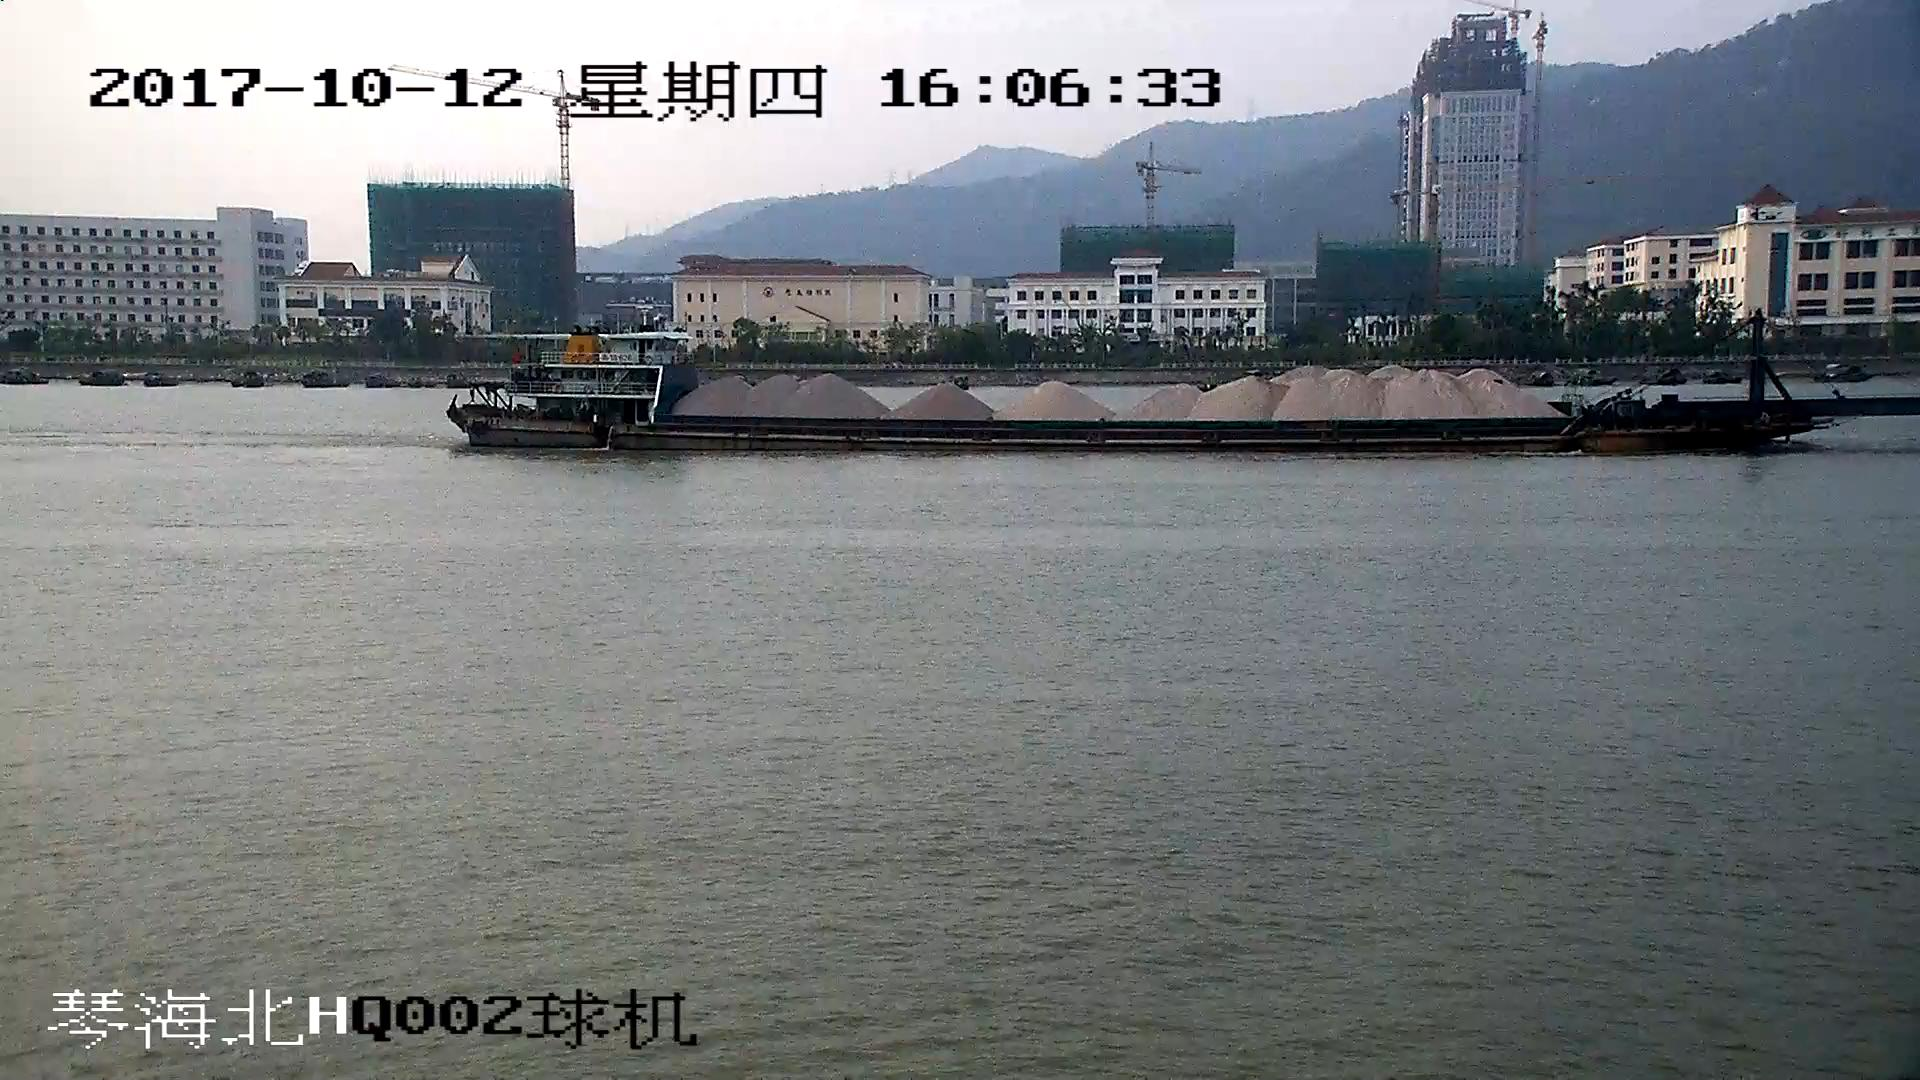ore carrier: (448, 323, 1920, 457)
